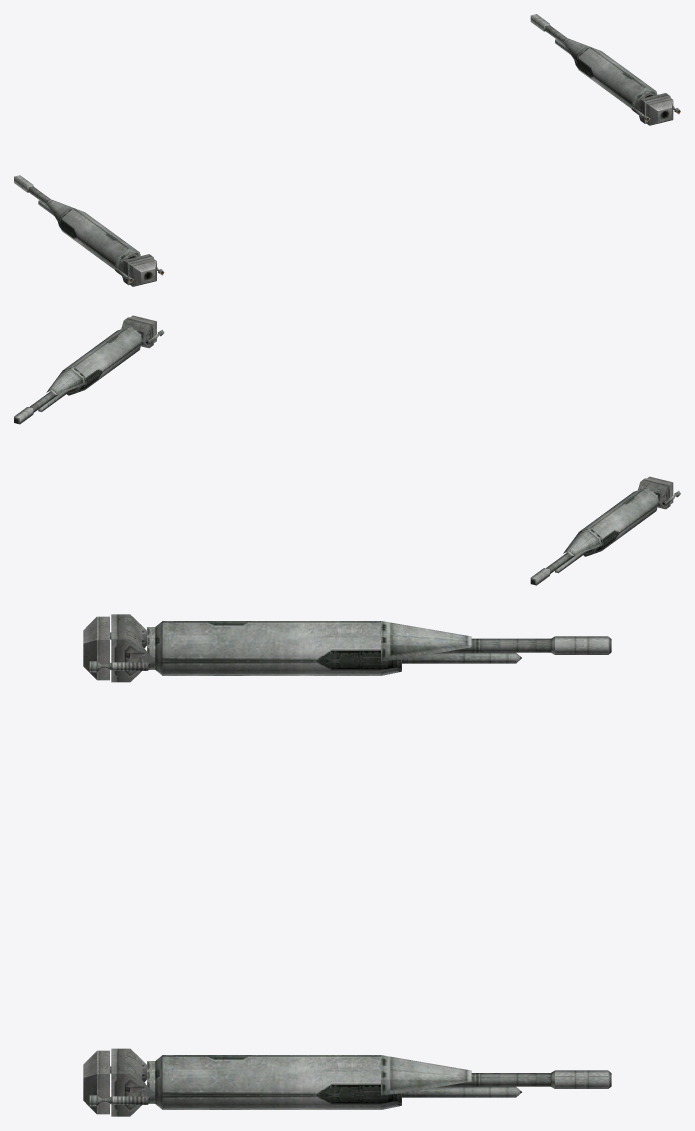
The model's file is xwing_weapon1_neg_s03_l1.fbx.
3 renders of one model, top to bottom at view 1: azimuth 30°, elevation 25°; view 2: azimuth 150°, elevation 25°; view 3: azimuth 270°, elevation 25°, orthographic. The views are drawn at different scales.
Parts seen in each view (by area): view 1: mesh_node; view 2: mesh_node; view 3: mesh_node.
Part boxes in pixels (<box>): mesh_node: <box>14,14,680,286</box>; mesh_node: <box>14,315,680,585</box>; mesh_node: <box>83,614,611,1116</box>.
Size of the model in its own units: 13.85 by 1.5 by 5.74.
1 material, 1 textured.
